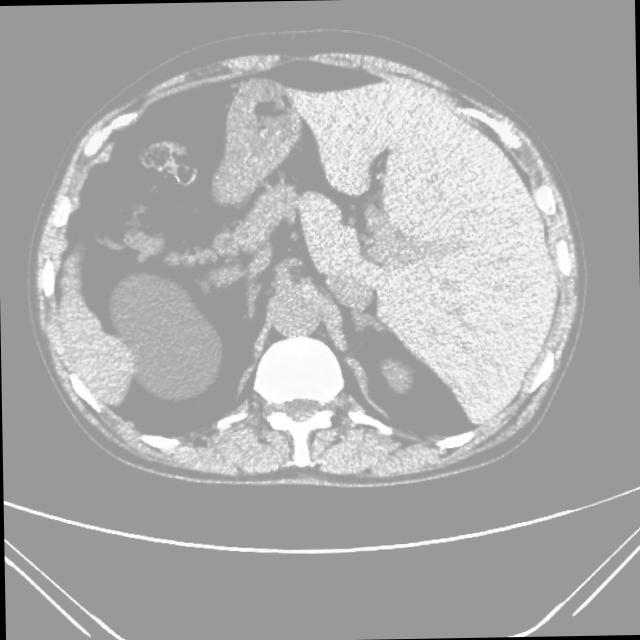cysts: (25, 38, 587, 489)
